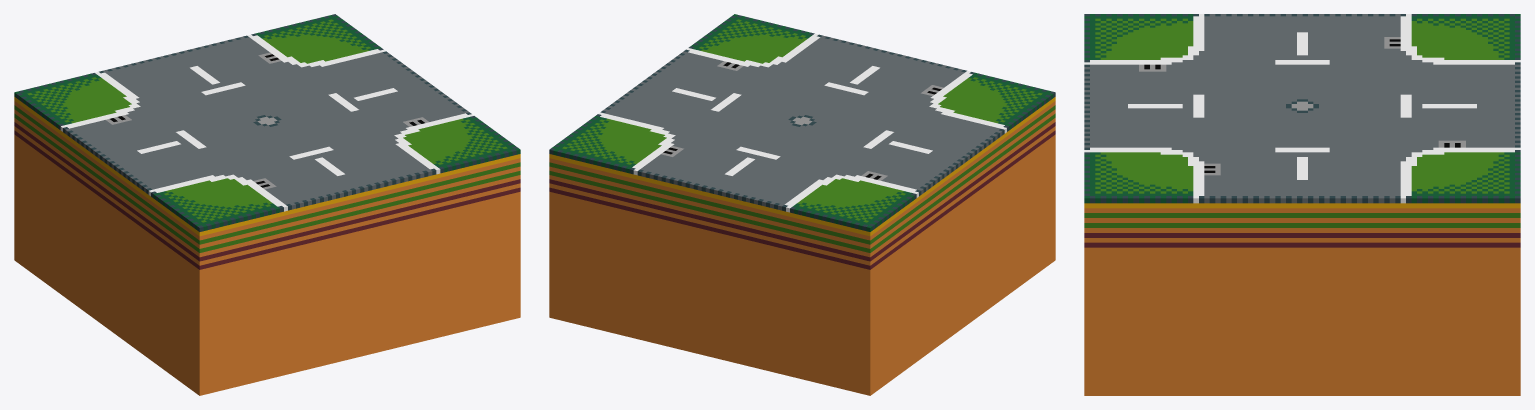
Rendered from road_4_tile.obj.
3 renders of one model, left to right at view 1: azimuth 30°, elevation 25°; view 2: azimuth 150°, elevation 25°; view 3: azimuth 270°, elevation 25°, orthographic. The views are drawn at different scales.
Size of the model in its own units: 8 by 4 by 8.
1 material, 1 textured.
